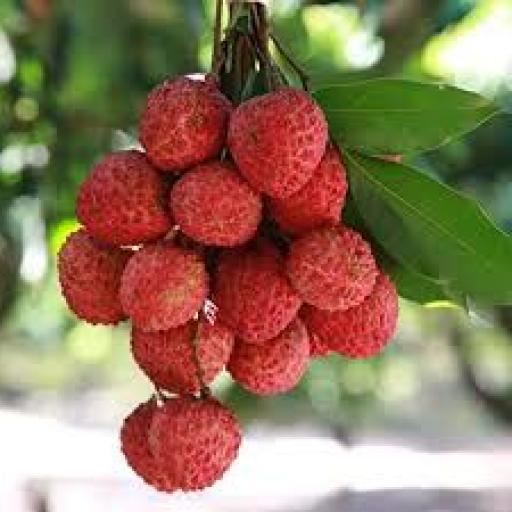lychee: (227, 87, 326, 197), (211, 242, 299, 343), (75, 151, 169, 245), (147, 396, 240, 491), (138, 78, 231, 172), (300, 274, 397, 359), (120, 242, 206, 332), (286, 226, 376, 311), (170, 162, 260, 245), (131, 321, 233, 393), (56, 230, 130, 325), (268, 146, 347, 234), (227, 319, 308, 395), (120, 399, 174, 491), (307, 330, 331, 359)
